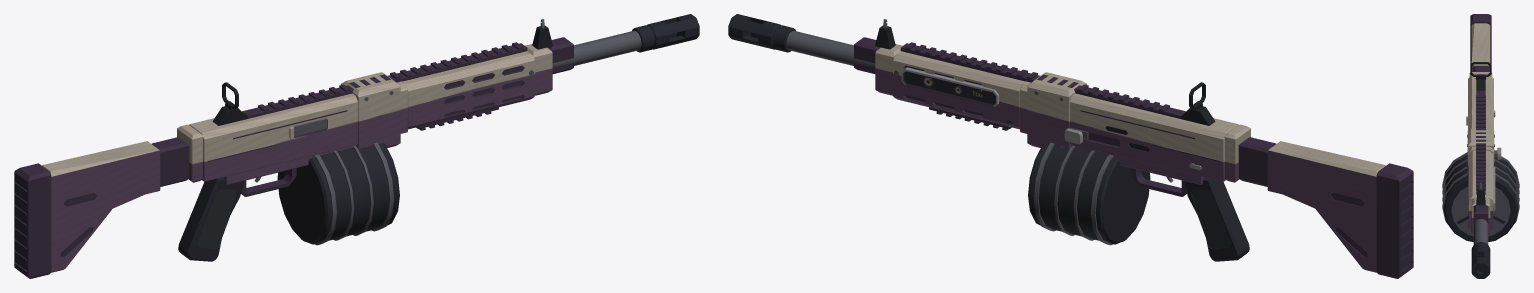
Rendered from Ares_Playback_v01.fbx.
3 views of the same model, side by side, from view 1: azimuth 30°, elevation 25°; view 2: azimuth 150°, elevation 25°; view 3: azimuth 270°, elevation 25° (orthographic). The views are drawn at different scales.
Parts seen in each view (by area): view 1: Ares_Receiver, Ares_Stock, Ares_Drum, Ares_Handguard, Ares_Grip, Ares_Barrel, Ares_Sights; view 2: Ares_Receiver, Ares_Stock, Ares_Drum, Ares_Handguard, Ares_Grip, Ares_Barrel, Playback_SmokedWindow, Ares_Sights, Playback_CassetteBed, Playback_CassetteHousing; view 3: Ares_Drum, Ares_Receiver, Ares_Handguard, Ares_Stock, Ares_Barrel, Ares_Sights, Playback_CassetteHousing, Ares_ChargingHandle.
Boxes of the visible parts, left/top/right/bottom form: Ares_Receiver: left=177, top=42, right=527, bottom=196; Ares_Stock: left=14, top=137, right=189, bottom=278; Ares_Drum: left=277, top=142, right=399, bottom=245; Ares_Handguard: left=402, top=37, right=573, bottom=130; Ares_Grip: left=178, top=177, right=243, bottom=261; Ares_Barrel: left=552, top=14, right=699, bottom=67; Ares_Sights: left=212, top=19, right=552, bottom=125; Ares_Receiver: left=900, top=42, right=1250, bottom=196; Ares_Stock: left=1238, top=137, right=1413, bottom=278; Ares_Drum: left=1028, top=142, right=1150, bottom=245; Ares_Handguard: left=854, top=37, right=1025, bottom=130; Ares_Grip: left=1184, top=177, right=1249, bottom=261; Ares_Barrel: left=728, top=14, right=875, bottom=67; Playback_SmokedWindow: left=903, top=72, right=995, bottom=104; Ares_Sights: left=875, top=19, right=1215, bottom=125; Playback_CassetteBed: left=904, top=71, right=995, bottom=104; Playback_CassetteHousing: left=901, top=67, right=998, bottom=107; Ares_Drum: left=1442, top=152, right=1519, bottom=241; Ares_Receiver: left=1466, top=72, right=1494, bottom=194; Ares_Handguard: left=1468, top=150, right=1493, bottom=234; Ares_Stock: left=1470, top=14, right=1491, bottom=71; Ares_Barrel: left=1471, top=219, right=1490, bottom=278; Ares_Sights: left=1470, top=62, right=1491, bottom=205; Playback_CassetteHousing: left=1493, top=166, right=1495, bottom=211; Ares_ChargingHandle: left=1494, top=147, right=1501, bottom=160.
Size of the model in its own units: 431 by 107 by 57.6.
15 materials, 12 textured.
